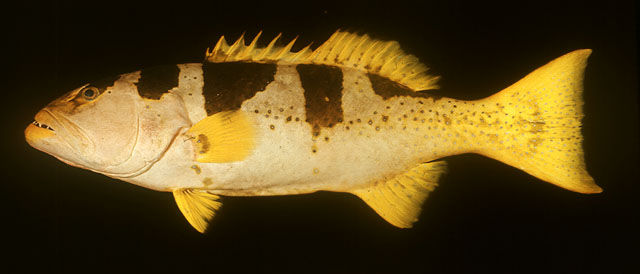fish: (25, 28, 604, 234)
